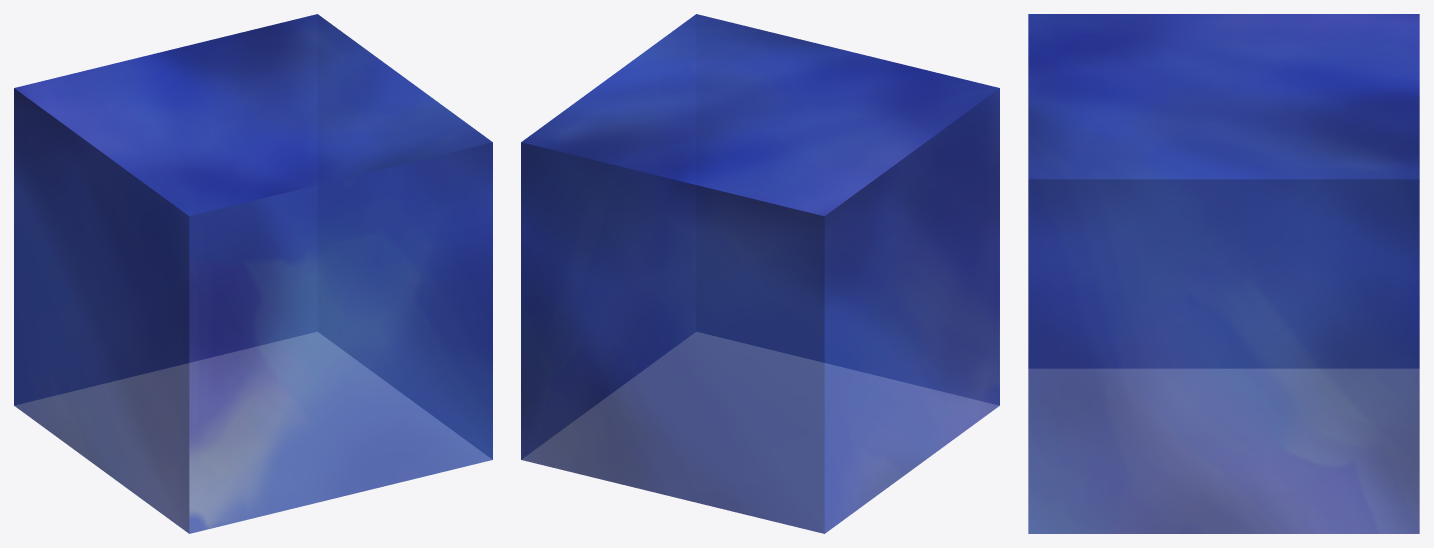
Rendered from Ground_Water.fbx.
3 views of the same model, side by side, from view 1: azimuth 30°, elevation 25°; view 2: azimuth 150°, elevation 25°; view 3: azimuth 270°, elevation 25° (orthographic). The views are drawn at different scales.
Visible parts, largest first — view 1: Cube; view 2: Cube; view 3: Cube.
Part boxes in pixels (box(x1,y1,x2,y2)): Cube: box(14, 14, 492, 533); Cube: box(521, 14, 999, 533); Cube: box(1028, 14, 1419, 533).
Size of the model in its own units: 200 by 200 by 200.
